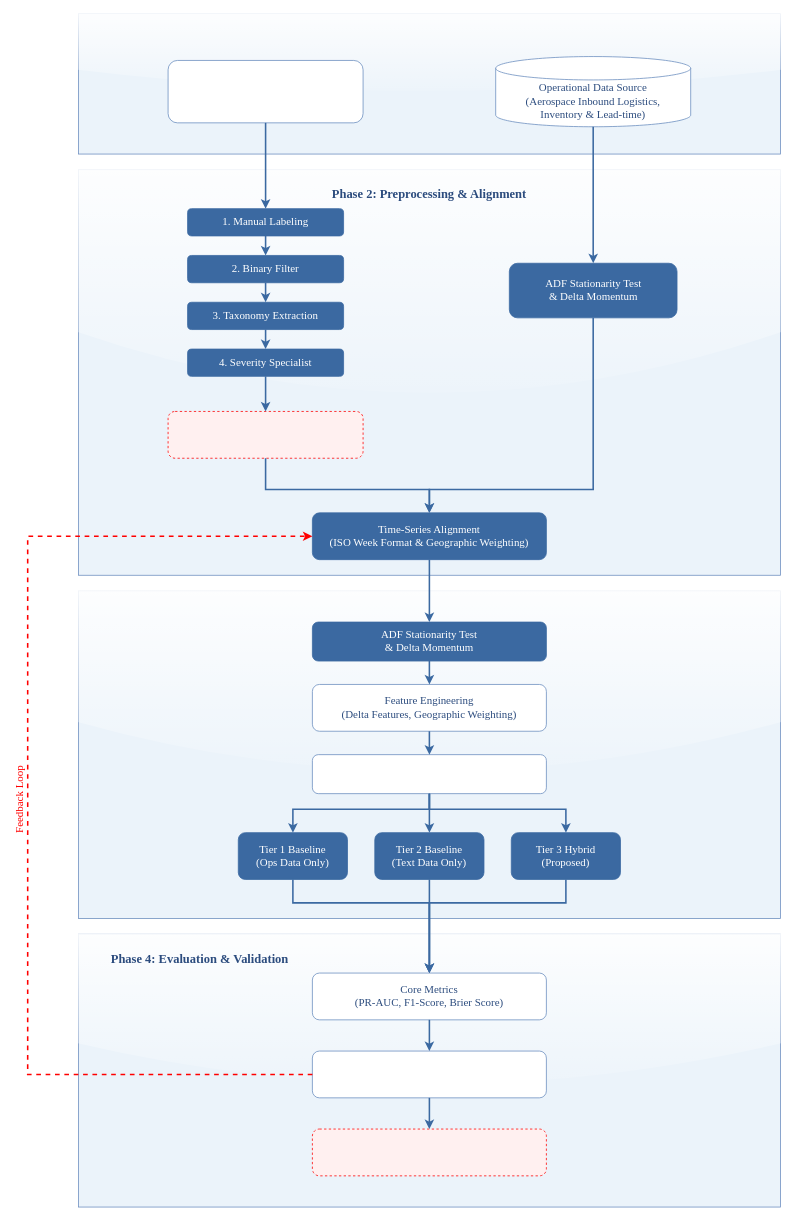
This 794x1221 diagram has some shape labels left out. Here are the shapes that lost their labels. From the top down, the box of each, then its label:
(167, 60, 363, 123): Textual Data Source (GDELT Project & NewsAPI, 2022-2024, ~7,200 articles)
(78, 13, 780, 154): Phase 1: Data Acquisition
(167, 411, 363, 458): [QUALITY GATE 1] Fleiss' & Cohen's Kappa >= 0.70
(78, 590, 780, 918): Phase 3: Model Development
(312, 754, 546, 794): Walk-forward Validation (5 Folds, Chronological Split)
(312, 1050, 546, 1098): Explainability & Visualization (SHAP Value)
(312, 1128, 546, 1176): [QUALITY GATE 2] Lead-Time Gain (LTG) Analysis
